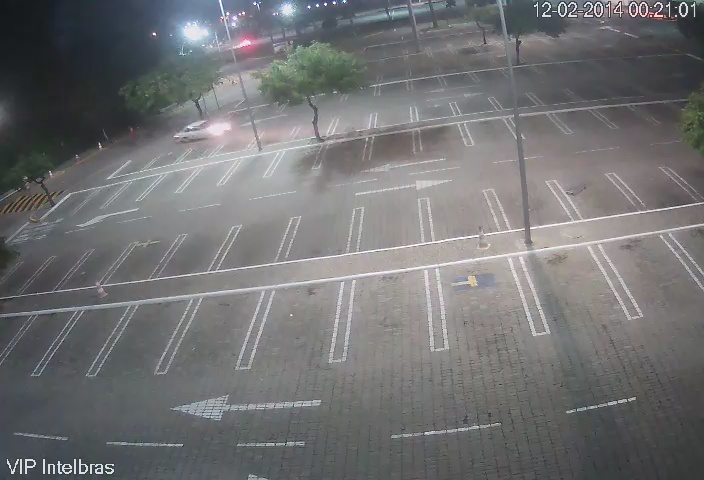lot: (425, 257, 531, 343), (342, 268, 439, 357), (518, 245, 623, 326), (595, 234, 701, 310), (258, 276, 345, 368), (188, 285, 252, 374), (121, 296, 177, 381), (70, 305, 124, 380), (552, 171, 633, 217), (494, 180, 567, 229), (16, 304, 68, 372), (610, 164, 690, 208), (288, 206, 348, 263), (219, 215, 284, 266), (424, 199, 503, 240), (356, 205, 423, 253), (119, 236, 171, 285), (170, 227, 220, 277), (507, 115, 568, 148), (412, 126, 470, 159), (462, 122, 520, 154), (79, 242, 116, 290), (368, 132, 420, 166), (551, 107, 608, 137), (595, 103, 650, 132), (232, 153, 276, 187), (321, 139, 368, 170), (34, 256, 70, 295), (275, 146, 321, 173), (6, 253, 36, 293), (193, 159, 226, 195), (157, 165, 188, 202), (115, 175, 149, 206), (495, 90, 543, 110), (416, 104, 460, 124), (84, 185, 115, 213), (292, 119, 331, 139), (337, 116, 374, 137), (54, 191, 84, 216), (153, 146, 189, 166), (535, 90, 580, 106), (374, 110, 416, 126), (125, 154, 155, 176), (257, 127, 295, 144), (455, 97, 496, 112), (220, 136, 256, 152), (191, 140, 218, 159)
